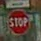stop: (6, 7, 30, 35)
